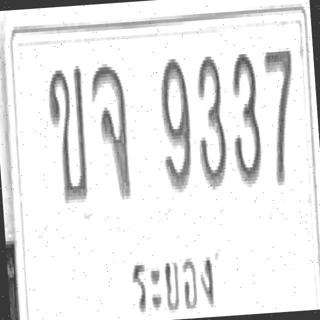A02: (45, 62, 91, 204)
A08: (88, 61, 132, 200)
N03: (192, 52, 229, 191), (227, 50, 263, 188)
N07: (262, 44, 300, 186)
N09: (156, 54, 194, 193)
P53: (124, 245, 220, 320)
